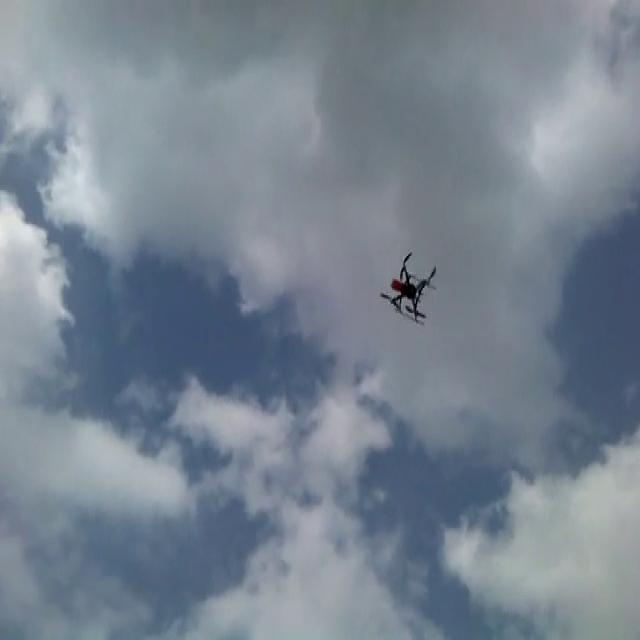drone: (376, 247, 438, 324)
